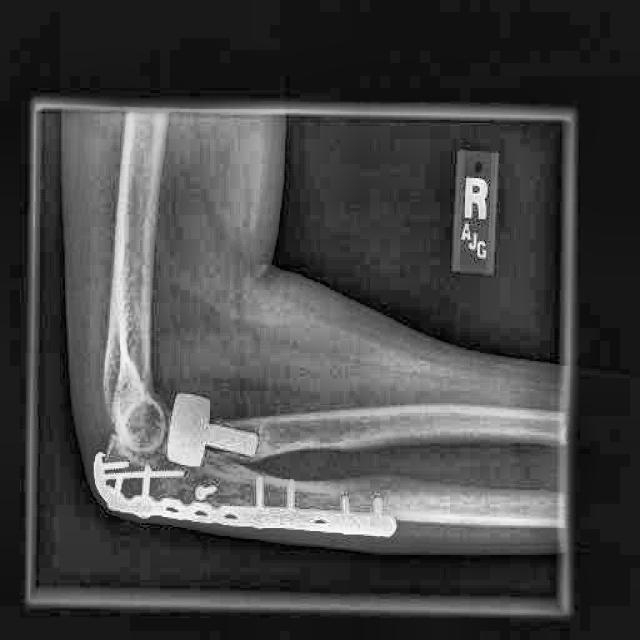elbow positive: (195, 410, 251, 467), (157, 473, 201, 519)
